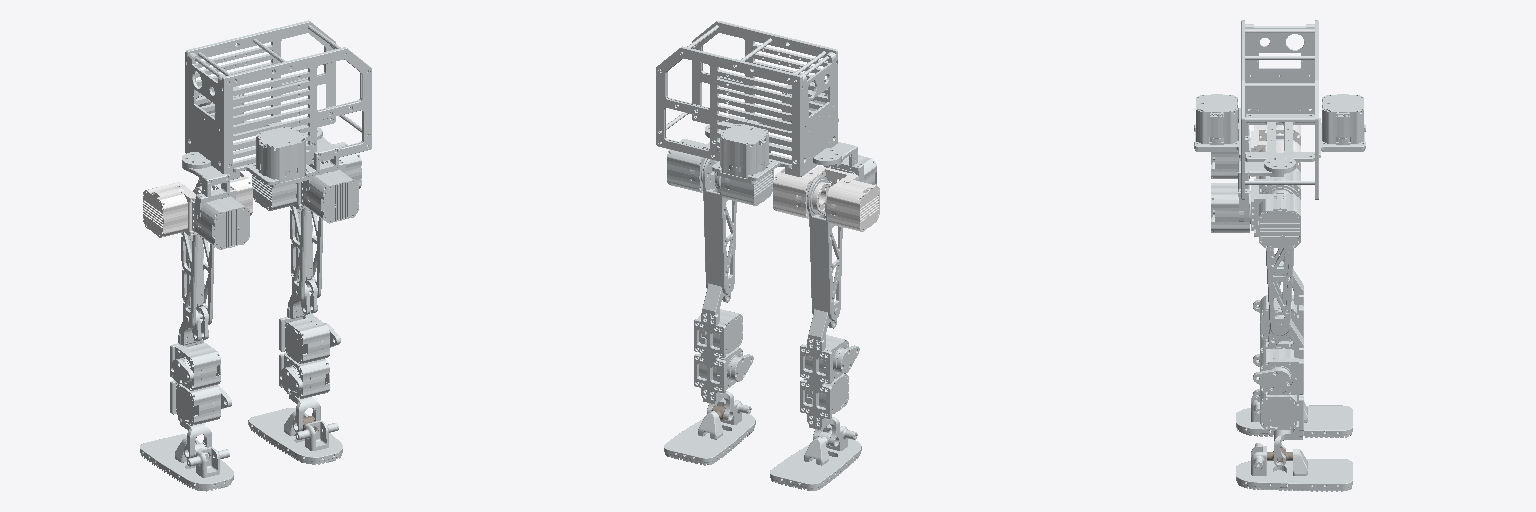
URDF robot description (pai02_1_12_240807):
<?xml version="1.0" encoding="utf-8"?>
<!--
This URDF was automatically created by SolidWorks to URDF Exporter! Originally created by [author] ([email redacted])
Commit Version: 1.6.0-4-g7f85cfe  Build Version: 1.6.7995.38578
For more information, please see http://wiki.ros.org/sw_urdf_exporter
-->
<robot name="pai02_1_12_240807">
	<link name="base_link">
		<inertial>
			<origin xyz="-0.00011969 0.00431563 0.07060951" rpy="0 0 0" />
			<mass value="2.47789918" />
			<inertia ixx="0.0079505" ixy="2.457E-05"  ixz="2.836E-05" 
									 iyy="0.00983126" iyz="-1.421E-05" 
									    			  izz="0.00758548" />
		</inertial>
		<visual>
			<origin xyz="0 0 0" rpy="0 0 0" />
			<geometry>
				<mesh filename="../meshes/base_link.STL" />
			</geometry>
			<material name="">
				<color rgba="0.89804 0.91765 0.92941 1" />
			</material>
		</visual>
		<collision>
			<origin xyz="0 0 0" rpy="0 0 0" />
			<geometry>
				<mesh filename="../meshes/base_link.STL" />
			</geometry>
		</collision>
	</link>
	<link name="r_hip_yaw_link">
		<inertial>
			<origin xyz="-0.00012202 -0.05213112 -0.05273544" rpy="0 0 0" />
			<mass value="0.34953789" />
			<inertia ixx="0.00025249" ixy="-4.5E-07" ixz="5.3E-07" iyy="0.00022813" iyz="-5.884E-05" izz="0.00016829" />
		</inertial>
		<visual>
			<origin xyz="0 0 0" rpy="0 0 0" />
			<geometry>
				<mesh filename="../meshes/r_hip_yaw_link.STL" />
			</geometry>
			<material name="">
				<color rgba="0.89804 0.91765 0.92941 1" />
			</material>
		</visual>
		<collision>
			<origin xyz="0 0 0" rpy="0 0 0" />
			<geometry>
				<mesh filename="../meshes/r_hip_yaw_link.STL" />
			</geometry>
		</collision>
	</link>
	<joint name="r_hip_yaw_joint" type="revolute">
		<origin xyz="0.075 0 0" rpy="0 0 0" />
		<parent link="base_link" />
		<child link="r_hip_yaw_link" />
		<axis xyz="0 0 1" />
		<limit lower="-3.14" upper="3.14" effort="21" velocity="21" />
	</joint>
	<link name="r_hip_roll_link">
		<inertial>
			<origin xyz="-0.00022682 -0.00214086 -0.00016674" rpy="0 0 0" />
			<mass value="0.67430799" />
			<inertia ixx="0.00031647" ixy="4.2E-07" ixz="3.61E-06" iyy="0.00098969" iyz="4.2E-07" izz="0.00101632" />
		</inertial>
		<visual>
			<origin xyz="0 0 0" rpy="0 0 0" />
			<geometry>
				<mesh filename="../meshes/r_hip_roll_link.STL" />
			</geometry>
			<material name="">
				<color rgba="0.89804 0.91765 0.92941 1" />
			</material>
		</visual>
		<collision>
			<origin xyz="0 0 0" rpy="0 0 0" />
			<geometry>
				<mesh filename="../meshes/r_hip_roll_link.STL" />
			</geometry>
		</collision>
	</link>
	<joint name="r_hip_roll_joint" type="revolute">
		<origin xyz="0 0 -0.059" rpy="0 0 0" />
		<parent link="r_hip_yaw_link" />
		<child link="r_hip_roll_link" />
		<axis xyz="0 1 0" />
		<limit lower="-3.14" upper="3.14" effort="21" velocity="21" />
	</joint>
	<link name="r_thigh_link">
		<inertial>
			<origin xyz="0.00051013 0.0023326 -0.096411" rpy="0 0 0" />
			<mass value="0.19993" />
			<inertia ixx="0.00064072" ixy="2.1E-07" ixz="-9.29E-06" iyy="0.00063292" iyz="7.5E-06" izz="3.516E-05" />
		</inertial>
		<visual>
			<origin xyz="0 0 0" rpy="0 0 0" />
			<geometry>
				<mesh filename="../meshes/r_thigh_link.STL" />
			</geometry>
			<material name="">
				<color rgba="0.89804 0.91765 0.92941 1" />
			</material>
		</visual>
		<collision>
			<origin xyz="0 0 0" rpy="0 0 0" />
			<geometry>
				<mesh filename="../meshes/r_thigh_link.STL" />
			</geometry>
		</collision>
	</link>
	<joint name="r_thigh_joint" type="revolute">
		<origin xyz="0 0 0" rpy="0 0 0" />
		<parent link="r_hip_roll_link" />
		<child link="r_thigh_link" />
		<axis xyz="1 0 0" />
		<limit lower="-3.14" upper="3.14" effort="21" velocity="21" />
	</joint>
	<link name="r_calf_link">
		<inertial>
			<origin xyz="6.957E-05 -0.00092506 -0.09475741" rpy="0 0 0" />
			<mass value="0.54984799" />
			<inertia ixx="0.00073284" ixy="8.7E-07" ixz="-6.748E-05" iyy="0.00073948" iyz="-3.988E-05" izz="0.00027251" />
		</inertial>
		<visual>
			<origin xyz="0 0 0" rpy="0 0 0" />
			<geometry>
				<mesh filename="../meshes/r_calf_link.STL" />
			</geometry>
			<material name="">
				<color rgba="0.89804 0.91765 0.92941 1" />
			</material>
		</visual>
		<collision>
			<origin xyz="0 0 0" rpy="0 0 0" />
			<geometry>
				<mesh filename="../meshes/r_calf_link.STL" />
			</geometry>
		</collision>
	</link>
	<joint name="r_calf_joint" type="revolute">
		<origin xyz="0 0 -0.15" rpy="0 0 0" />
		<parent link="r_thigh_link" />
		<child link="r_calf_link" />
		<axis xyz="1 0 0" />
		<limit lower="-3.14" upper="3.14" effort="21" velocity="21" />
	</joint>
	<link name="r_ankle_pitch_link">
		<inertial>
			<origin xyz="0 0 0" rpy="0 0 0" />
			<mass value="0.01158437" />
			<inertia ixx="1.12E-06" ixy="0" ixz="0" iyy="4.5E-07" iyz="0" izz="1.21E-06" />
		</inertial>
		<visual>
			<origin xyz="0 0 0" rpy="0 0 0" />
			<geometry>
				<mesh filename="../meshes/r_ankle_pitch_link.STL" />
			</geometry>
			<material name="">
				<color rgba="0.65098 0.61961 0.58824 1" />
			</material>
		</visual>
		<collision>
			<origin xyz="0 0 0" rpy="0 0 0" />
			<geometry>
				<mesh filename="../meshes/r_ankle_pitch_link.STL" />
			</geometry>
		</collision>
	</link>
	<joint name="r_ankle_pitch_joint" type="revolute">
		<origin xyz="0 0 -0.17545" rpy="0 0 0" />
		<parent link="r_calf_link" />
		<child link="r_ankle_pitch_link" />
		<axis xyz="1 0 0" />
		<limit lower="-3.14" upper="3.14" effort="21" velocity="21" />
	</joint>
	<link name="r_ankle_roll_link">
		<inertial>
			<origin xyz="2.06E-06 0.01663117 -0.0211042" rpy="0 0 0" />
			<mass value="0.26606111" />
			<inertia ixx="0.00039542" ixy="1E-08" ixz="-2E-08" iyy="0.00010328" iyz="2.208E-05" izz="0.00045941" />
		</inertial>
		<visual>
			<origin xyz="0 0 0" rpy="0 0 0" />
			<geometry>
				<mesh filename="../meshes/r_ankle_roll_link.STL" />
			</geometry>
			<material name="">
				<color rgba="0.89804 0.91765 0.92941 1" />
			</material>
		</visual>
		<collision>
			<origin xyz="0 0 0" rpy="0 0 0" />
			<geometry>
				<mesh filename="../meshes/r_ankle_roll_link.STL" />
			</geometry>
		</collision>
	</link>
	<joint name="r_ankle_roll_joint" type="revolute">
		<origin xyz="0 0 0" rpy="0 0 0" />
		<parent link="r_ankle_pitch_link" />
		<child link="r_ankle_roll_link" />
		<axis xyz="0 1 0" />
		<limit lower="-3.14" upper="3.14" effort="21" velocity="21" />
	</joint>
	<link name="l_hip_yaw_link">
		<inertial>
			<origin xyz="6.958E-05 -0.05287777 -0.05288161" rpy="0 0 0" />
			<mass value="0.34953789" />
			<inertia ixx="0.00025057" ixy="2.6E-07" ixz="-3.9E-07" iyy="0.00023311" iyz="-5.987E-05" izz="0.00016652" />
		</inertial>
		<visual>
			<origin xyz="0 0 0" rpy="0 0 0" />
			<geometry>
				<mesh filename="../meshes/l_hip_yaw_link.STL" />
			</geometry>
			<material name="">
				<color rgba="0.89804 0.91765 0.92941 1" />
			</material>
		</visual>
		<collision>
			<origin xyz="0 0 0" rpy="0 0 0" />
			<geometry>
				<mesh filename="../meshes/l_hip_yaw_link.STL" />
			</geometry>
		</collision>
	</link>
	<joint name="l_hip_yaw_joint" type="revolute">
		<origin xyz="-0.075 0 0" rpy="0 0 0" />
		<parent link="base_link" />
		<child link="l_hip_yaw_link" />
		<axis xyz="0 0 1" />
		<limit lower="-3.14" upper="3.14" effort="21" velocity="21" />
	</joint>
	<link name="l_hip_roll_link">
		<inertial>
			<origin xyz="0.00022682 -0.00198932 -0.00016674" rpy="0 0 0" />
			<mass value="0.67430799" />
			<inertia ixx="0.00032559" ixy="-3.9E-07" ixz="-2.13E-06" iyy="0.00101903" iyz="4E-07" izz="0.00104452" />
		</inertial>
		<visual>
			<origin xyz="0 0 0" rpy="0 0 0" />
			<geometry>
				<mesh filename="../meshes/l_hip_roll_link.STL" />
			</geometry>
			<material name="">
				<color rgba="1 1 1 1" />
			</material>
		</visual>
		<collision>
			<origin xyz="0 0 0" rpy="0 0 0" />
			<geometry>
				<mesh filename="../meshes/l_hip_roll_link.STL" />
			</geometry>
		</collision>
	</link>
	<joint name="l_hip_roll_joint" type="revolute">
		<origin xyz="0 0 -0.059" rpy="0 0 0" />
		<parent link="l_hip_yaw_link" />
		<child link="l_hip_roll_link" />
		<axis xyz="0 1 0" />
		<limit lower="-3.14" upper="3.14" effort="21" velocity="21" />
	</joint>
	<link name="l_thigh_link">
		<inertial>
			<origin xyz="-0.00034834 0.0023012 -0.095112" rpy="0 0 0" />
			<mass value="0.20265649" />
			<inertia ixx="0.00066685" ixy="-1.3E-07" ixz="6.17E-06" iyy="0.00065889" iyz="8.11E-06" izz="3.611E-05" />
		</inertial>
		<visual>
			<origin xyz="0 0 0" rpy="0 0 0" />
			<geometry>
				<mesh filename="../meshes/l_thigh_link.STL" />
			</geometry>
			<material name="">
				<color rgba="0.89804 0.91765 0.92941 1" />
			</material>
		</visual>
		<collision>
			<origin xyz="0 0 0" rpy="0 0 0" />
			<geometry>
				<mesh filename="../meshes/l_thigh_link.STL" />
			</geometry>
		</collision>
	</link>
	<joint name="l_thigh_joint" type="revolute">
		<origin xyz="0 0 0" rpy="0 0 0" />
		<parent link="l_hip_roll_link" />
		<child link="l_thigh_link" />
		<axis xyz="1 0 0" />
		<limit lower="-3.14" upper="3.14" effort="21" velocity="21" />
	</joint>
	<link name="l_calf_link">
		<inertial>
			<origin xyz="-7.122E-05 -0.00115019 -0.09475743" rpy="0 0 0" />
			<mass value="0.54984829" />
			<inertia ixx="0.00069528" ixy="-8.7E-07" ixz="6.083E-05" iyy="0.00070372" iyz="-3.904E-05" izz="0.00023616" />
		</inertial>
		<visual>
			<origin xyz="0 0 0" rpy="0 0 0" />
			<geometry>
				<mesh filename="../meshes/l_calf_link.STL" />
			</geometry>
			<material name="">
				<color rgba="0.89804 0.91765 0.92941 1" />
			</material>
		</visual>
		<collision>
			<origin xyz="0 0 0" rpy="0 0 0" />
			<geometry>
				<mesh filename="../meshes/l_calf_link.STL" />
			</geometry>
		</collision>
	</link>
	<joint name="l_calf_joint" type="revolute">
		<origin xyz="0 0 -0.15" rpy="0 0 0" />
		<parent link="l_thigh_link" />
		<child link="l_calf_link" />
		<axis xyz="1 0 0" />
		<limit lower="-3.14" upper="3.14" effort="21" velocity="21" />
	</joint>
	<link name="l_ankle_pitch_link">
		<inertial>
			<origin xyz="0 0 0" rpy="0 0 0" />
			<mass value="0.01158437" />
			<inertia ixx="1.12E-06" ixy="0" ixz="0" iyy="4.5E-07" iyz="0" izz="1.21E-06" />
		</inertial>
		<visual>
			<origin xyz="0 0 0" rpy="0 0 0" />
			<geometry>
				<mesh filename="../meshes/l_ankle_pitch_link.STL" />
			</geometry>
			<material name="">
				<color rgba="0.89804 0.91765 0.92941 1" />
			</material>
		</visual>
		<collision>
			<origin xyz="0 0 0" rpy="0 0 0" />
			<geometry>
				<mesh filename="../meshes/l_ankle_pitch_link.STL" />
			</geometry>
		</collision>
	</link>
	<joint name="l_ankle_pitch_joint" type="revolute">
		<origin xyz="0 0 -0.17545" rpy="0 0 0" />
		<parent link="l_calf_link" />
		<child link="l_ankle_pitch_link" />
		<axis xyz="1 0 0" />
		<limit lower="-3.14" upper="3.14" effort="21" velocity="21" />
	</joint>
	<link name="l_ankle_roll_link">
		<inertial>
			<origin xyz="0 0.01700127 -0.0213352" rpy="0 0 0" />
			<mass value="0.26318612" />
			<inertia ixx="0.00039075" ixy="0" ixz="2E-08" iyy="0.00010189" iyz="2E-05" izz="0.00045603" />
		</inertial>
		<visual>
			<origin xyz="0 0 0" rpy="0 0 0" />
			<geometry>
				<mesh filename="../meshes/l_ankle_roll_link.STL" />
			</geometry>
			<material name="">
				<color rgba="0.89804 0.91765 0.92941 1" />
			</material>
		</visual>
		<collision>
			<origin xyz="0 0 0" rpy="0 0 0" />
			<geometry>
				<mesh filename="../meshes/l_ankle_roll_link.STL" />
			</geometry>
		</collision>
	</link>
	<joint name="l_ankle_roll_joint" type="revolute">
		<origin xyz="0 0 0" rpy="0 0 0" />
		<parent link="l_ankle_pitch_link" />
		<child link="l_ankle_roll_link" />
		<axis xyz="0 1 0" />
		<limit lower="-3.14" upper="3.14" effort="21" velocity="21" />
	</joint>
</robot>

--- Facts derived from the render (not from the file) ---
Views: 3 orthographic renders of the robot side by side, from view 1: azimuth 30°, elevation 25°; view 2: azimuth 150°, elevation 25°; view 3: azimuth 270°, elevation 25°.
Model pai02_1_12_240807 with 13 links and 12 joints (12 revolute), rooted at base_link, posed every joint at zero.
Visible links, largest first — view 1: base_link, l_calf_link, r_calf_link, l_hip_yaw_link, r_hip_yaw_link, r_ankle_roll_link, l_ankle_roll_link, l_hip_roll_link, l_thigh_link, r_thigh_link, r_hip_roll_link; view 2: base_link, r_calf_link, l_calf_link, l_hip_roll_link, r_ankle_roll_link, l_ankle_roll_link, r_thigh_link, l_thigh_link, r_hip_roll_link, l_hip_yaw_link; view 3: base_link, r_calf_link, r_ankle_roll_link, r_hip_roll_link, r_hip_yaw_link, l_ankle_roll_link, r_thigh_link, l_calf_link, l_hip_yaw_link, l_hip_roll_link.
Link boxes in pixels (<box>): base_link: <box>185,20,371,187</box>; l_calf_link: <box>170,306,231,458</box>; r_calf_link: <box>279,279,340,431</box>; l_hip_yaw_link: <box>182,152,249,249</box>; r_hip_yaw_link: <box>293,125,358,223</box>; r_ankle_roll_link: <box>248,408,342,464</box>; l_ankle_roll_link: <box>140,434,233,491</box>; l_hip_roll_link: <box>143,172,252,237</box>; l_thigh_link: <box>181,181,214,328</box>; r_thigh_link: <box>290,165,322,302</box>; r_hip_roll_link: <box>252,142,361,210</box>; base_link: <box>656,21,838,183</box>; r_calf_link: <box>694,284,753,421</box>; l_calf_link: <box>800,309,859,446</box>; l_hip_roll_link: <box>773,166,879,231</box>; r_ankle_roll_link: <box>664,398,755,465</box>; l_ankle_roll_link: <box>770,424,861,490</box>; r_thigh_link: <box>703,155,736,294</box>; l_thigh_link: <box>807,176,842,320</box>; r_hip_roll_link: <box>667,139,773,205</box>; l_hip_yaw_link: <box>813,142,876,185</box>; base_link: <box>1194,20,1365,199</box>; r_calf_link: <box>1253,310,1303,466</box>; r_ankle_roll_link: <box>1236,443,1352,491</box>; r_hip_roll_link: <box>1251,168,1300,248</box>; r_hip_yaw_link: <box>1211,158,1295,232</box>; l_ankle_roll_link: <box>1236,394,1352,437</box>; r_thigh_link: <box>1262,185,1300,335</box>; l_calf_link: <box>1253,260,1303,366</box>; l_hip_yaw_link: <box>1211,108,1289,178</box>; l_hip_roll_link: <box>1251,125,1300,178</box>.
Bounding box of the posed robot: 0.2759 × 0.204 × 0.5364 m (x, y, z).
13 mesh visuals loaded from 13 distinct referenced files (13 binary STL).